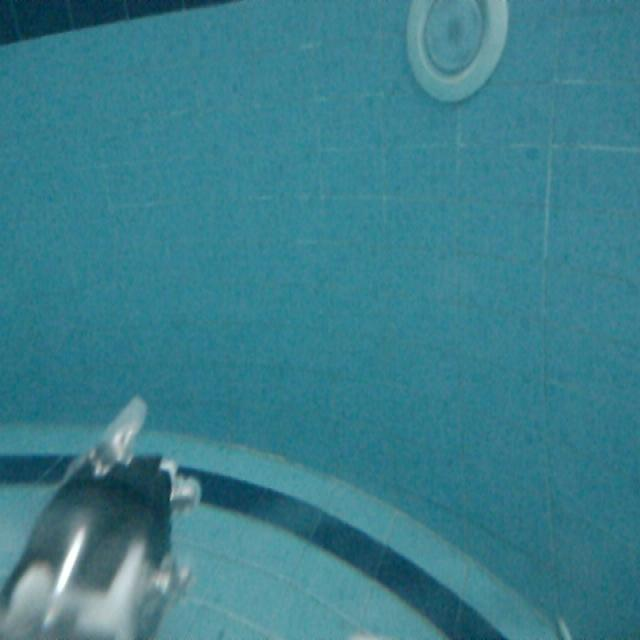Cube: (553, 610, 580, 640)
